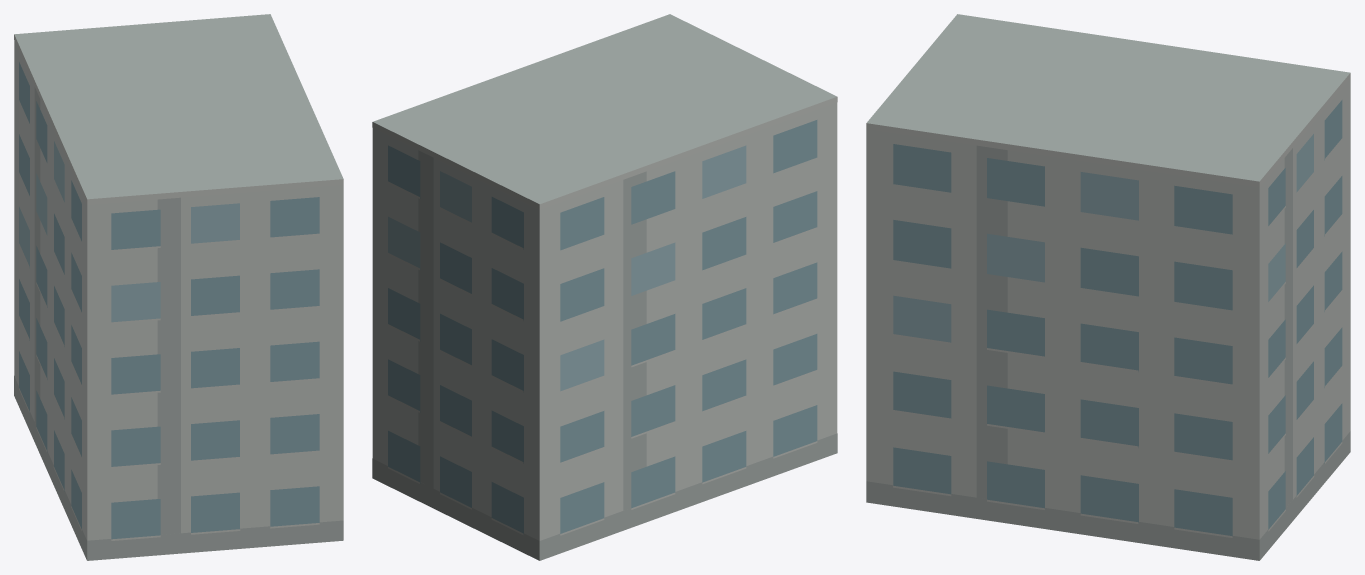
File: residential-f758bba9-fdb8-4ff3-b4ac-494c0f4caa75.glb
3 views of the same model, side by side, from view 1: azimuth 30°, elevation 25°; view 2: azimuth 150°, elevation 25°; view 3: azimuth 270°, elevation 25° (orthographic). The views are drawn at different scales.
Visible parts, largest first — view 1: residential-f758bba9-fdb8-4ff3-b4ac-494c0f4caa75.tmp; view 2: residential-f758bba9-fdb8-4ff3-b4ac-494c0f4caa75.tmp; view 3: residential-f758bba9-fdb8-4ff3-b4ac-494c0f4caa75.tmp.
Part boxes in pixels (box(x1,y1,x2,y2)): residential-f758bba9-fdb8-4ff3-b4ac-494c0f4caa75.tmp: box(14, 14, 343, 560); residential-f758bba9-fdb8-4ff3-b4ac-494c0f4caa75.tmp: box(372, 14, 837, 560); residential-f758bba9-fdb8-4ff3-b4ac-494c0f4caa75.tmp: box(866, 14, 1350, 560).
Bounding box in the file's own units: 14.46 × 15.25 × 17.66.
